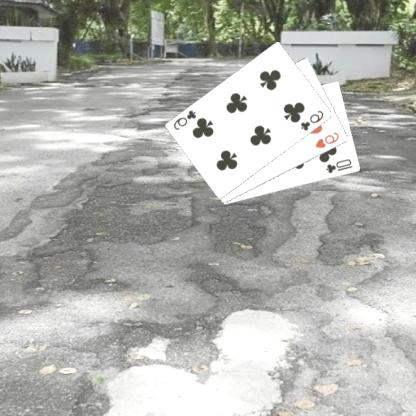10C: (325, 156, 356, 174)
6C: (300, 107, 327, 132), (173, 107, 200, 132)
6H: (314, 129, 343, 150)
